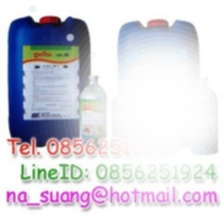insecticide: (111, 15, 204, 153), (4, 12, 97, 150), (186, 75, 219, 157), (76, 73, 108, 153), (150, 79, 182, 157), (109, 79, 141, 154)
